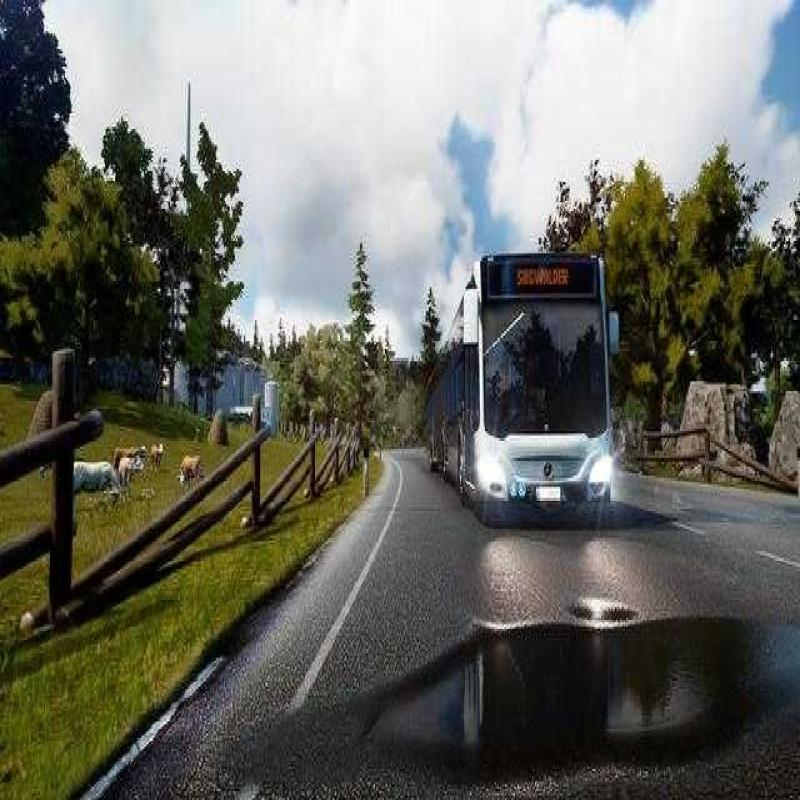bus: (436, 216, 624, 585)
